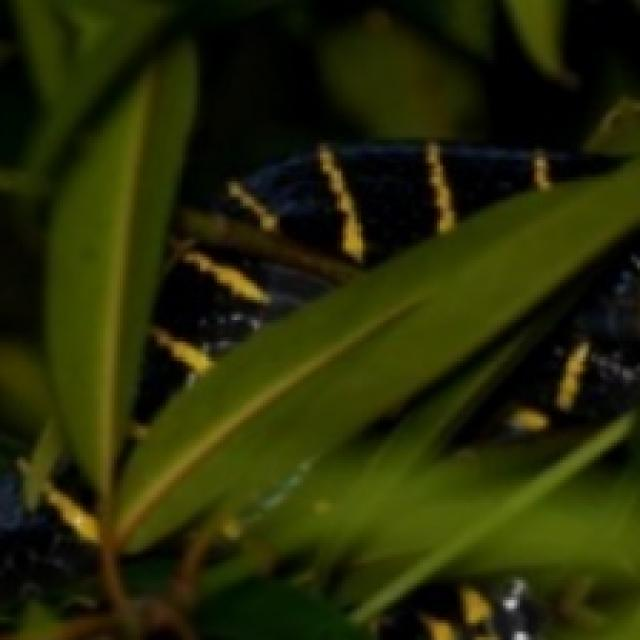mangrove cat snake: (211, 142, 611, 269), (135, 240, 334, 433), (460, 236, 640, 442)
